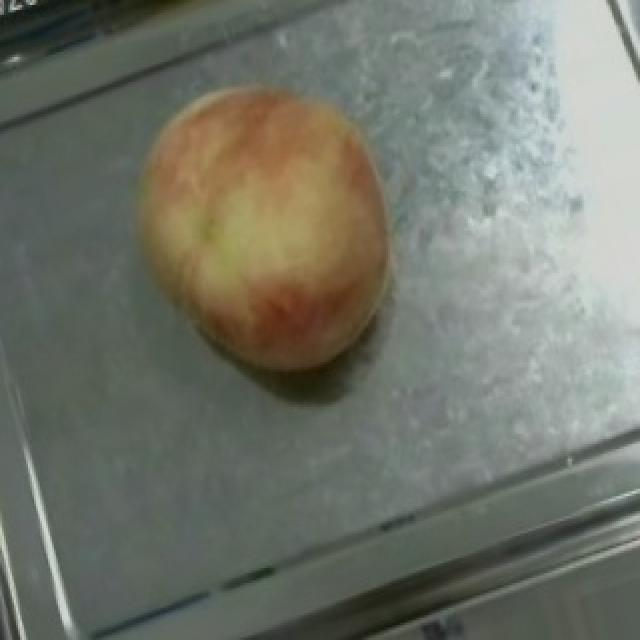Fruit: (88, 44, 432, 417)
